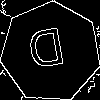D: (25, 27, 69, 78)
